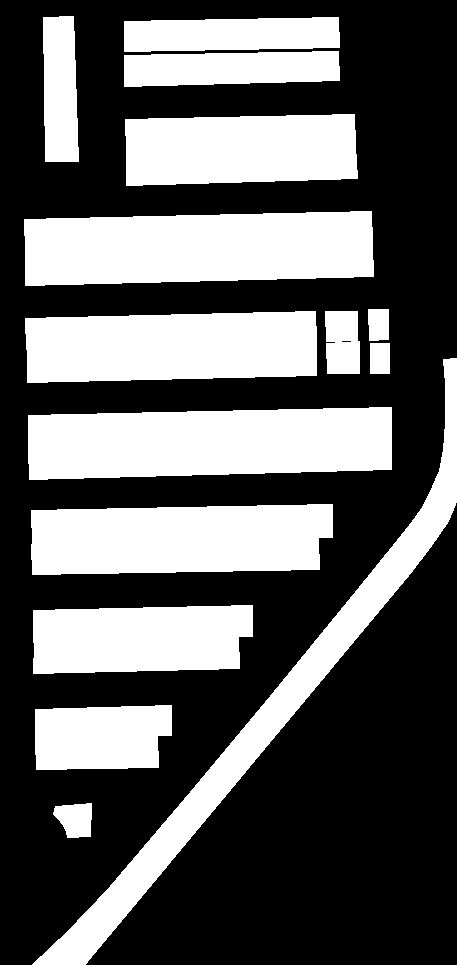parkingspot: (31, 358, 457, 965), (28, 437, 391, 479), (25, 243, 373, 285), (28, 407, 391, 447), (24, 211, 372, 251), (31, 504, 332, 544), (27, 341, 316, 382), (25, 311, 316, 349), (31, 538, 319, 574), (126, 145, 357, 185), (125, 114, 355, 151), (33, 605, 252, 642), (33, 636, 239, 673), (124, 51, 339, 86), (124, 17, 339, 51), (43, 16, 78, 161), (35, 705, 171, 739), (35, 735, 158, 769), (53, 803, 91, 837), (326, 341, 359, 373), (325, 311, 357, 341), (368, 309, 388, 340), (370, 343, 389, 373)
